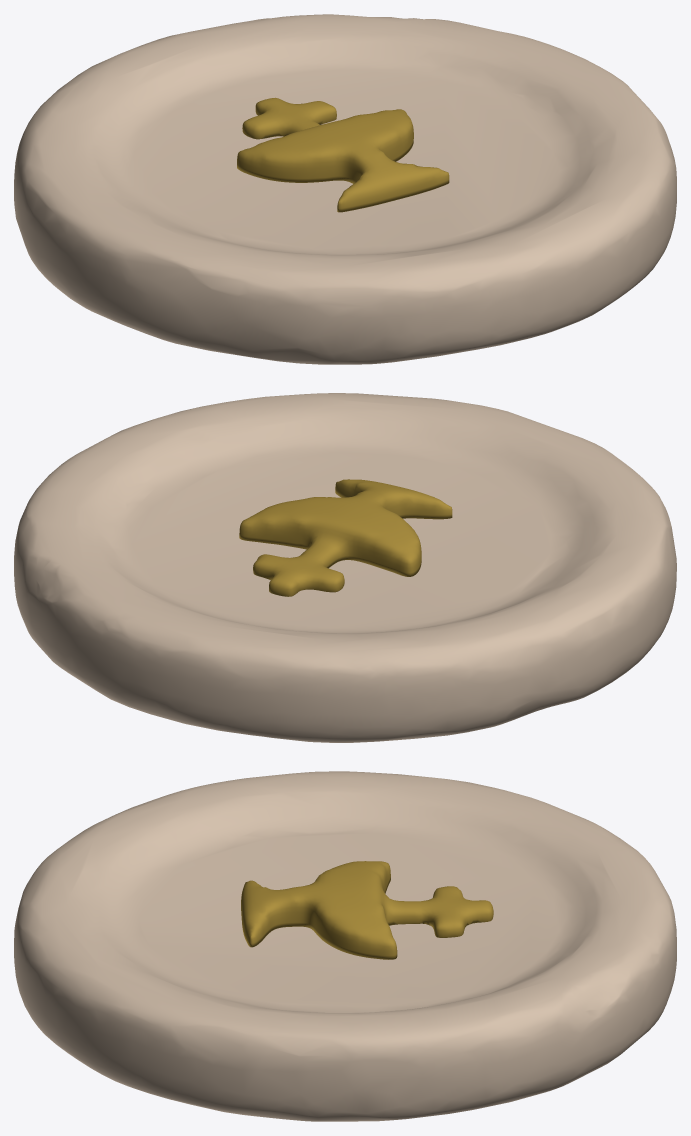
File: token-cleric-red-draco.glb
3 views of the same model, one above another, from view 1: azimuth 30°, elevation 25°; view 2: azimuth 150°, elevation 25°; view 3: azimuth 270°, elevation 25° (orthographic).
Visible parts, largest first — view 1: token_cleric_red; view 2: token_cleric_red; view 3: token_cleric_red.
Part boxes in pixels (box(x1,y1,x2,y2)): token_cleric_red: box(14, 14, 676, 364); token_cleric_red: box(14, 393, 676, 742); token_cleric_red: box(14, 771, 676, 1121).
Bounding box in the file's own units: 0.4141 × 0.0712 × 0.4142.
